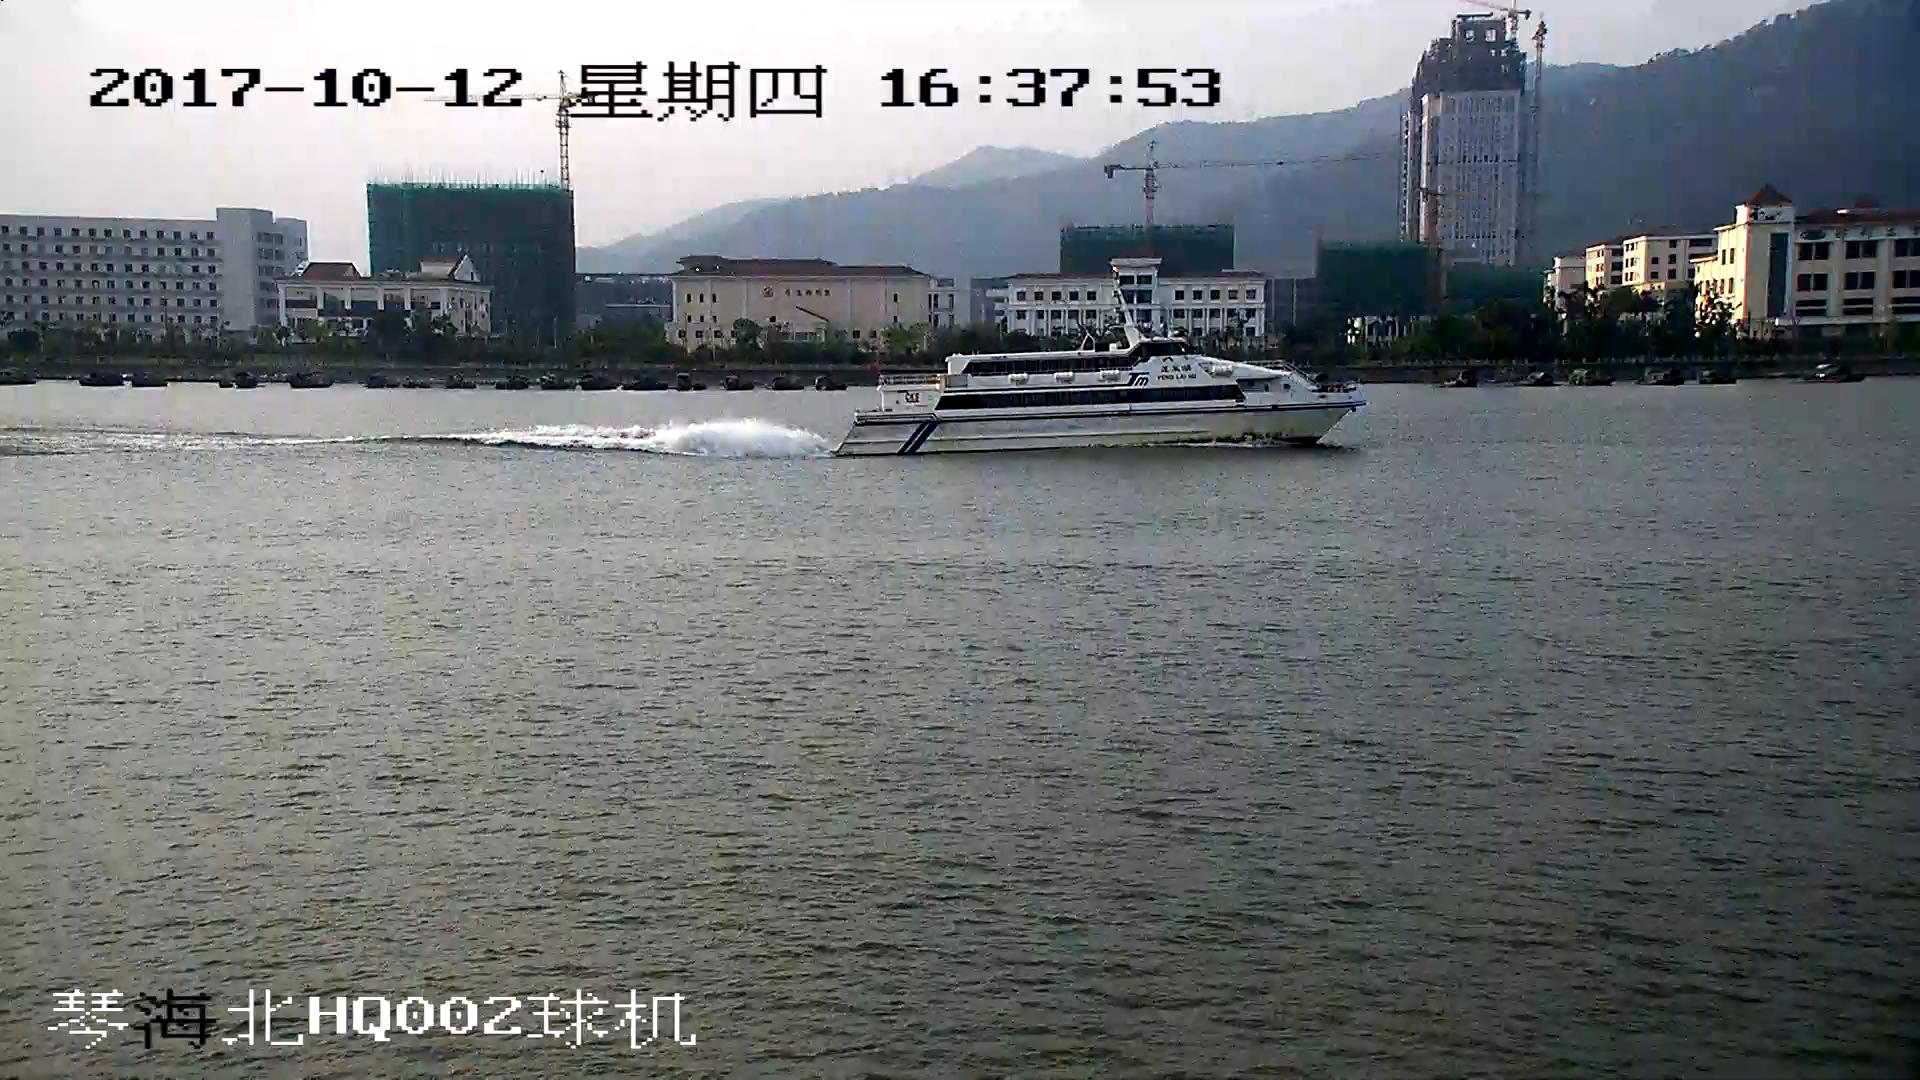passenger ship: (835, 272, 1366, 458)
